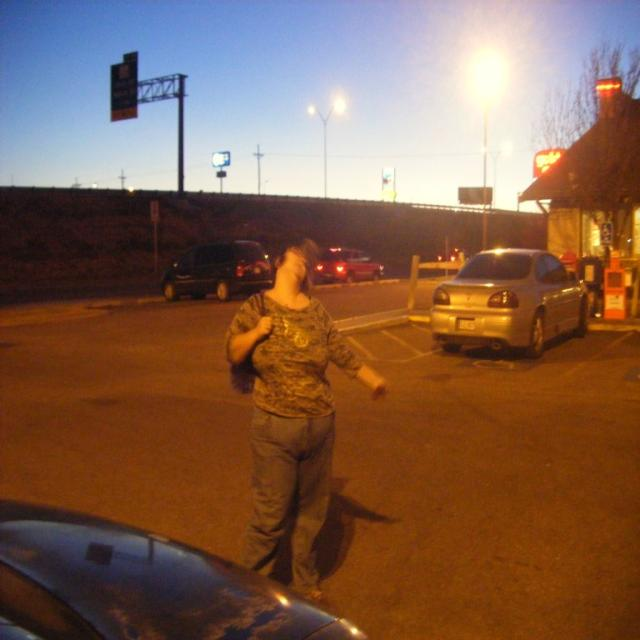car: (429, 246, 591, 362)
